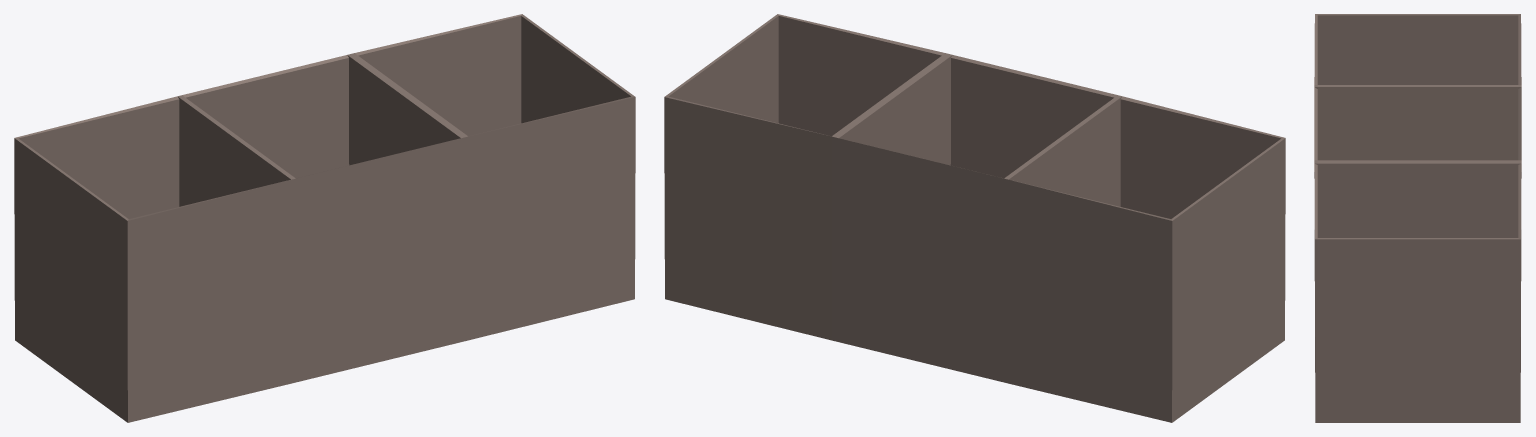
Rendered from Porta_talheres.fbx.
The picture shows the model from 3 angles, left to right: view 1: azimuth 30°, elevation 25°; view 2: azimuth 150°, elevation 25°; view 3: azimuth 270°, elevation 25°; orthographic projection. The views are drawn at different scales.
Visible parts, largest first — view 1: Porta_talheres; view 2: Porta_talheres; view 3: Porta_talheres.
Part boxes in pixels (x1,y1,x2,y2): Porta_talheres: [14, 14, 635, 422]; Porta_talheres: [664, 14, 1285, 422]; Porta_talheres: [1314, 14, 1521, 422].
Bounding box in the file's own units: 532 × 204 × 207.
